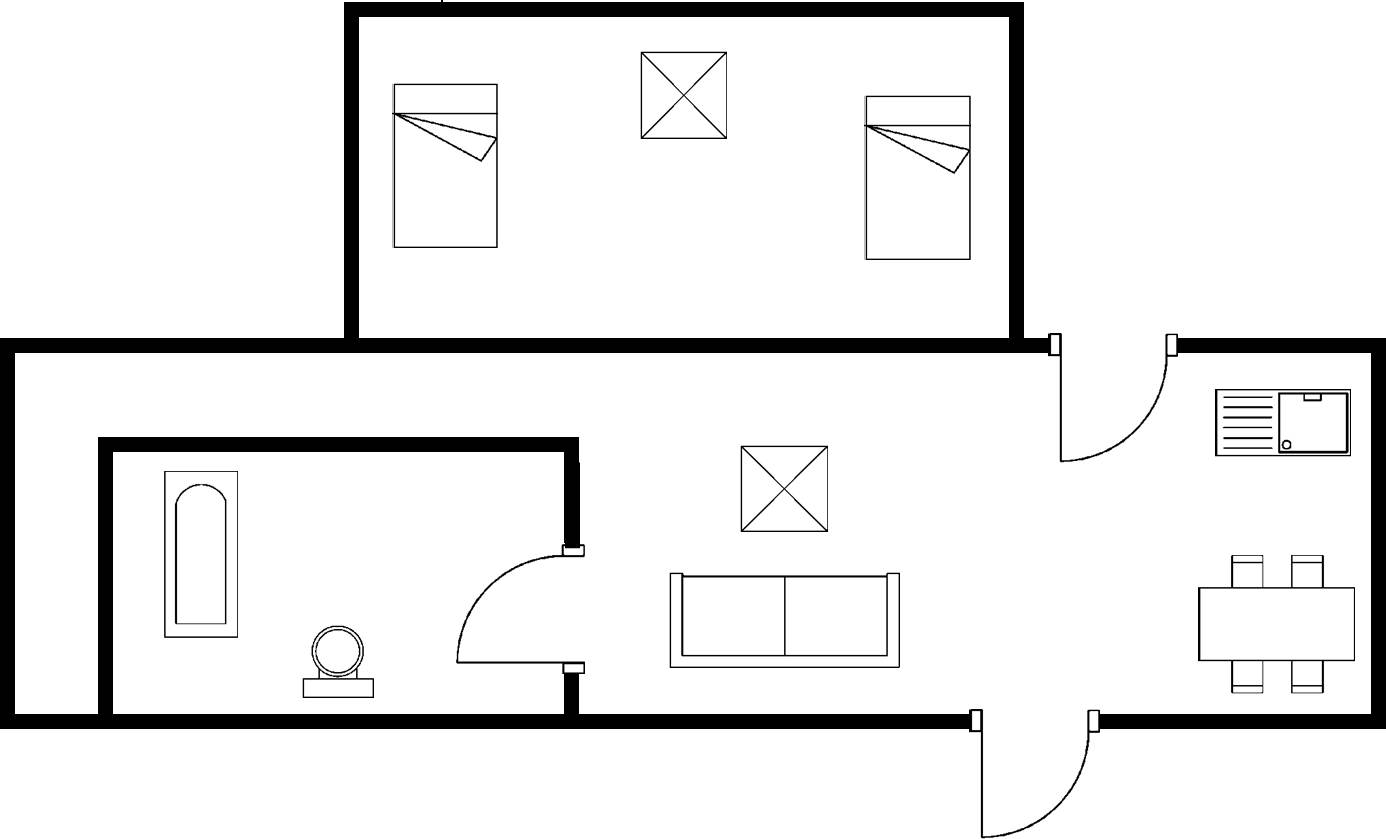bed: (859, 89, 977, 267), (388, 79, 505, 258)
coffee_table: (632, 44, 736, 147), (736, 441, 837, 541)
dining_table: (1191, 546, 1360, 700)
large_sink: (300, 619, 378, 704)
large_sofa: (663, 563, 909, 677)
sink: (1209, 384, 1355, 461)
tub: (159, 464, 246, 645)
